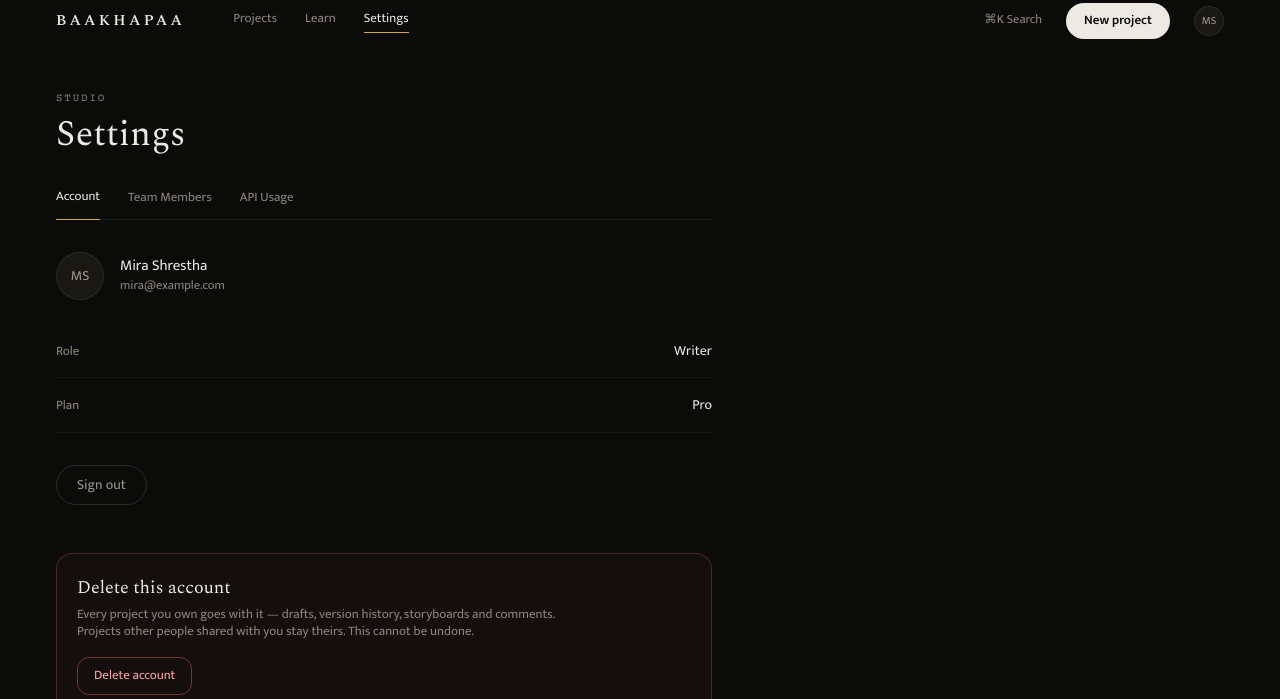
Test: deleting an account › refuses to act on an empty confirmation
The width and height of the screenshot is (1280, 699).
Click the button "Delete account" at (135, 676), box [77,657,192,695]
(page scrolled)
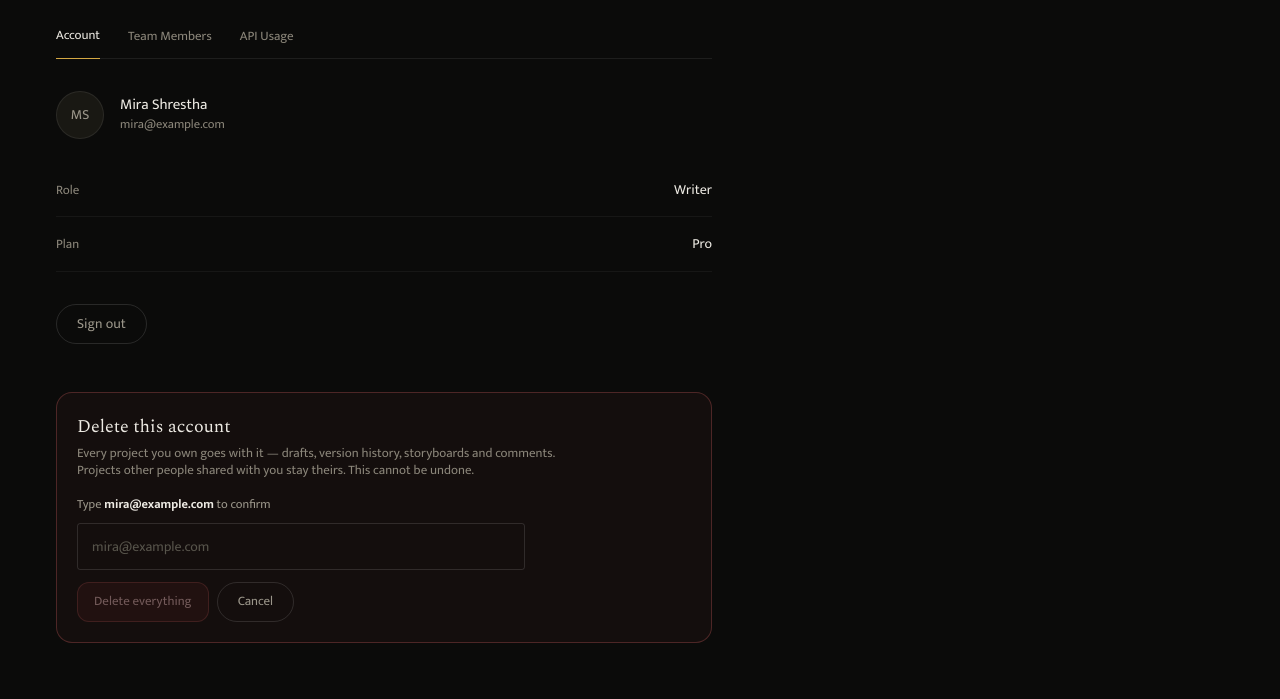
Expected: the button "Delete everything" is disabled, [77,582,209,622]
